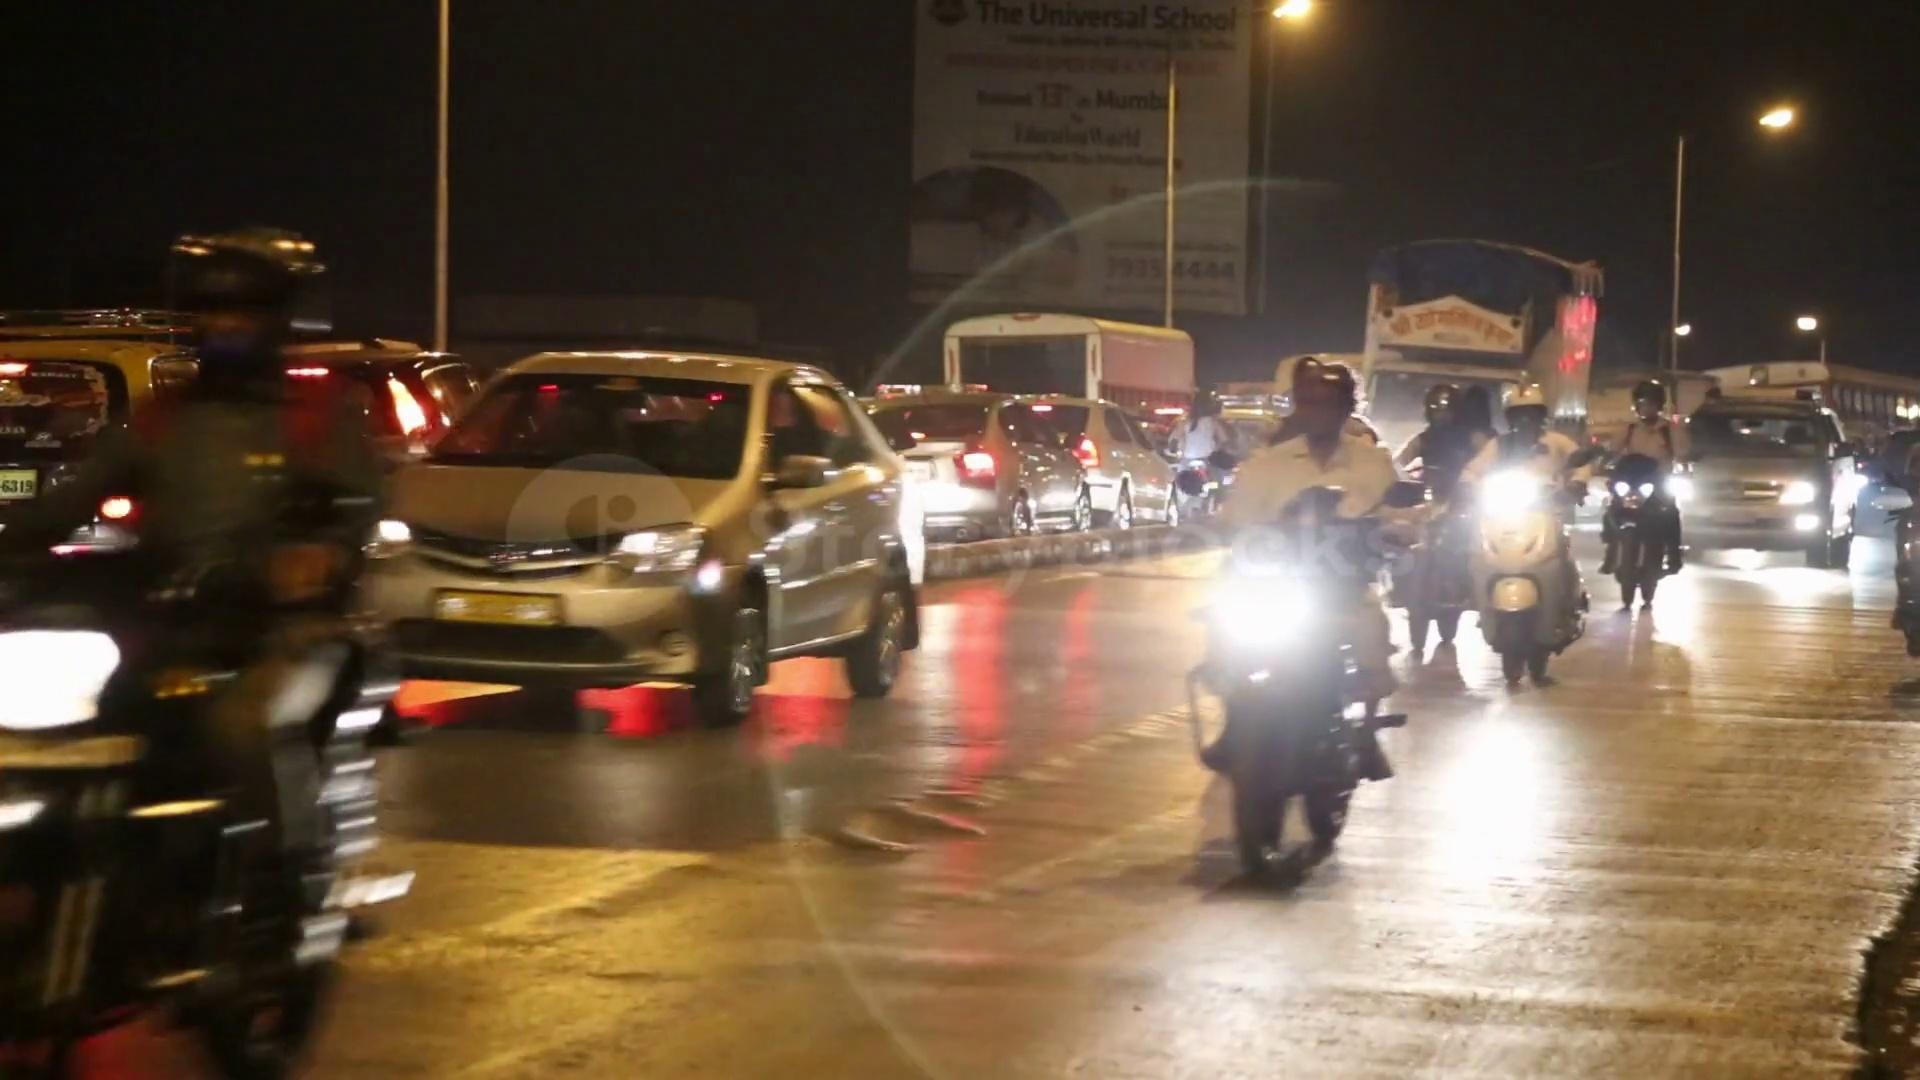rider: (51, 226, 397, 1073), (1189, 354, 1432, 881), (1477, 366, 1576, 707), (1389, 371, 1467, 649), (1611, 376, 1681, 620)
with_helmate: (166, 241, 313, 389), (1499, 383, 1549, 437), (1626, 384, 1666, 421)
without_helmate: (1289, 370, 1357, 447)
